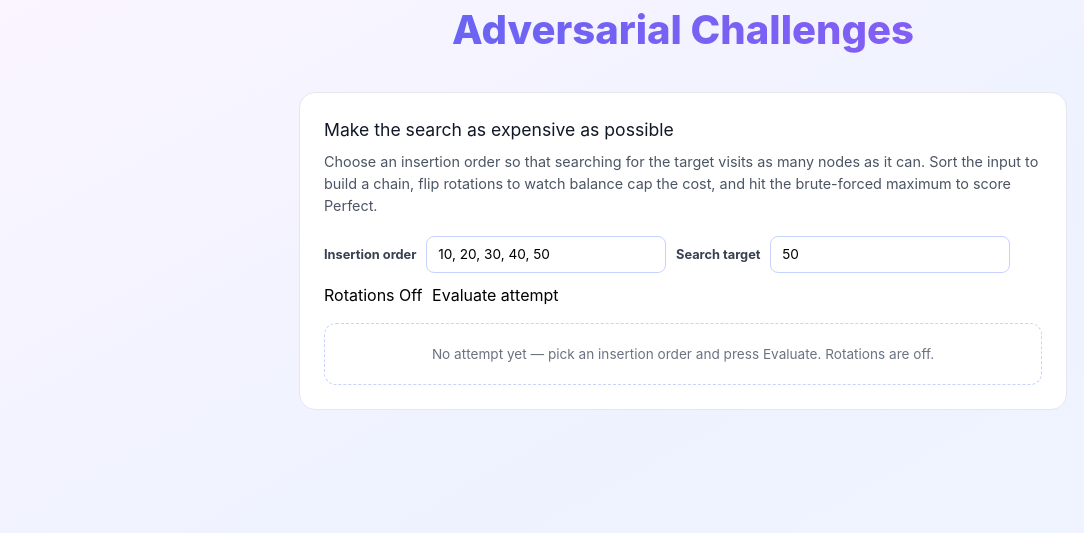
Scenario: Challenges › enabling rotations caps the achievable maximum
Click the button with aria-label "Toggle AVL rotations". click: [373, 295]
box: [324,283,422,307]
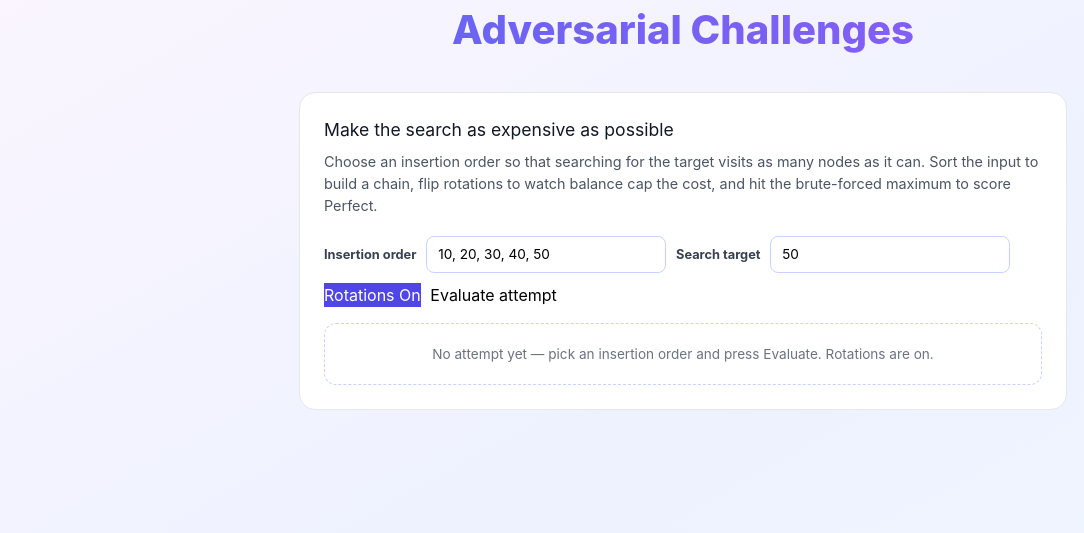
Click the button "Evaluate attempt". click: [494, 295]
box: [430,283,557,307]
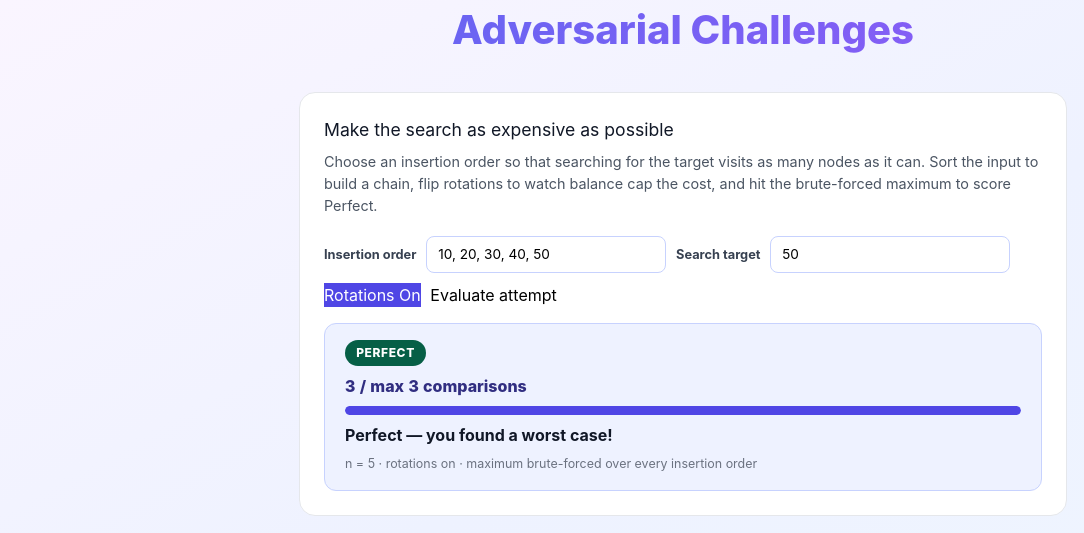
Now the element with class "challenge-result" shows "3 / max 3", box [324,323,1042,491]
Now the text "Perfect" is shown, box [345,340,426,366]
